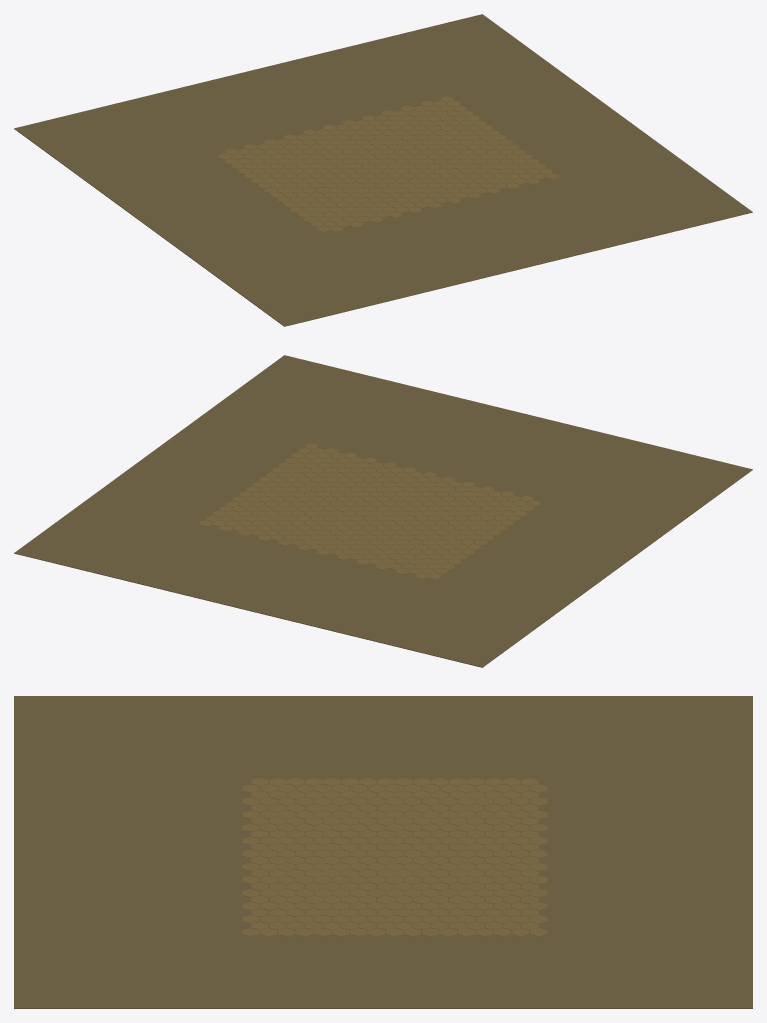
Rendered from Floor.fbx.
3 renders of one model, top to bottom at view 1: azimuth 30°, elevation 25°; view 2: azimuth 150°, elevation 25°; view 3: azimuth 270°, elevation 25°, orthographic. The views are drawn at different scales.
Parts seen in each view (by area): view 1: Floor; view 2: Floor; view 3: Floor.
Boxes of the visible parts, x1=… form: Floor: x1=14, y1=14, x2=752, y2=326; Floor: x1=14, y1=355, x2=752, y2=667; Floor: x1=14, y1=696, x2=752, y2=1008.
Bounding box in the file's own units: 182 × 0.3544 × 182.
